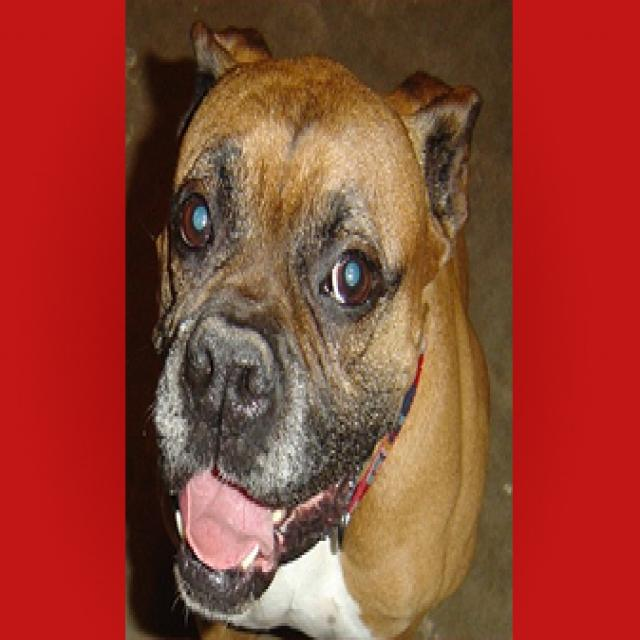dogs: (149, 19, 492, 640)
